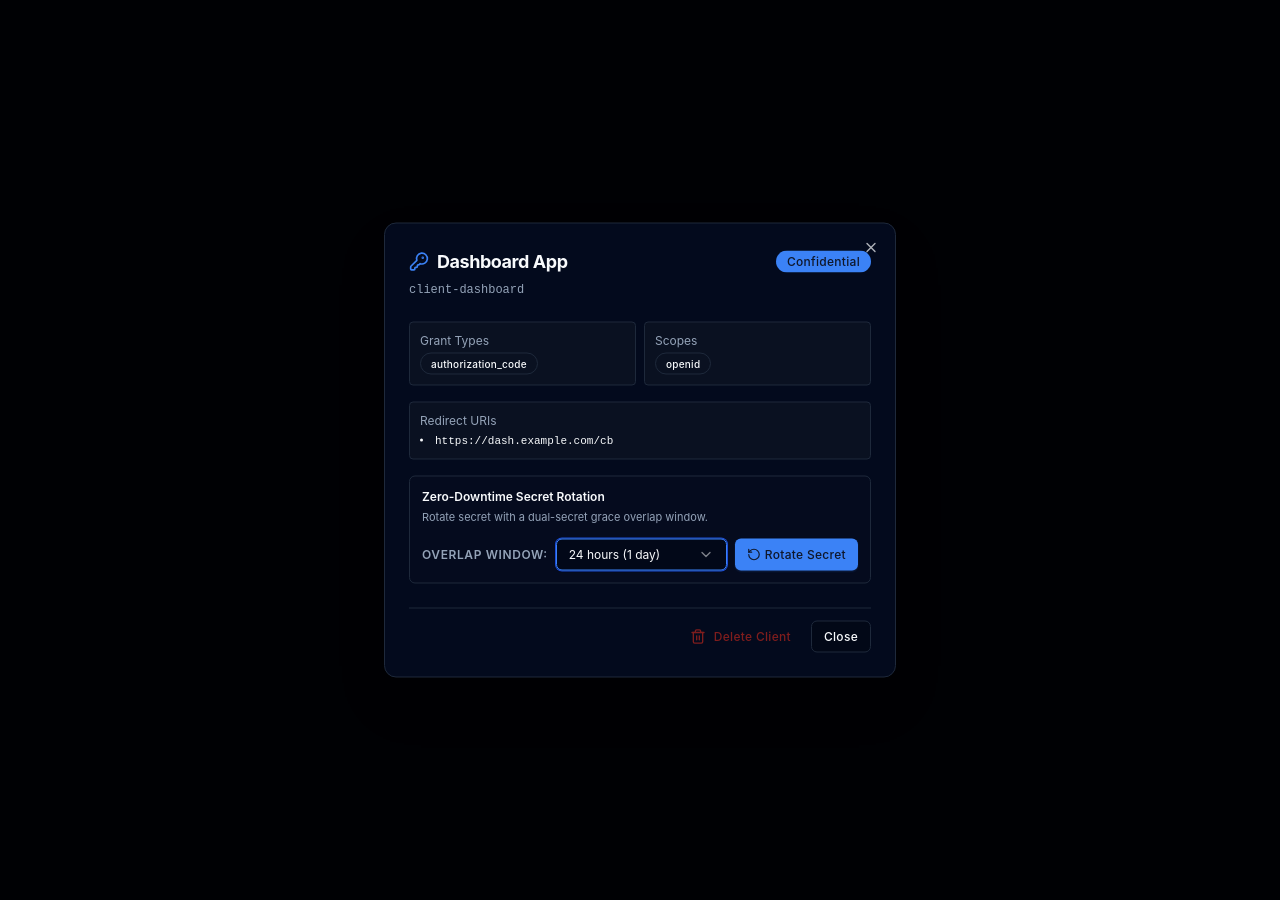
Test: OAuth2 UI Components › ClientDetailDialog › renders client details and allows secret rotation
Expected: the heading "Dashboard App" is shown, x1=409 y1=248 x2=568 y2=276
Expected: the heading "Zero-Downtime Secret Rotation" is shown, x1=422 y1=488 x2=605 y2=504
Click the button "Rotate Secret" at (796, 554), box x1=735 y1=538 x2=858 y2=570
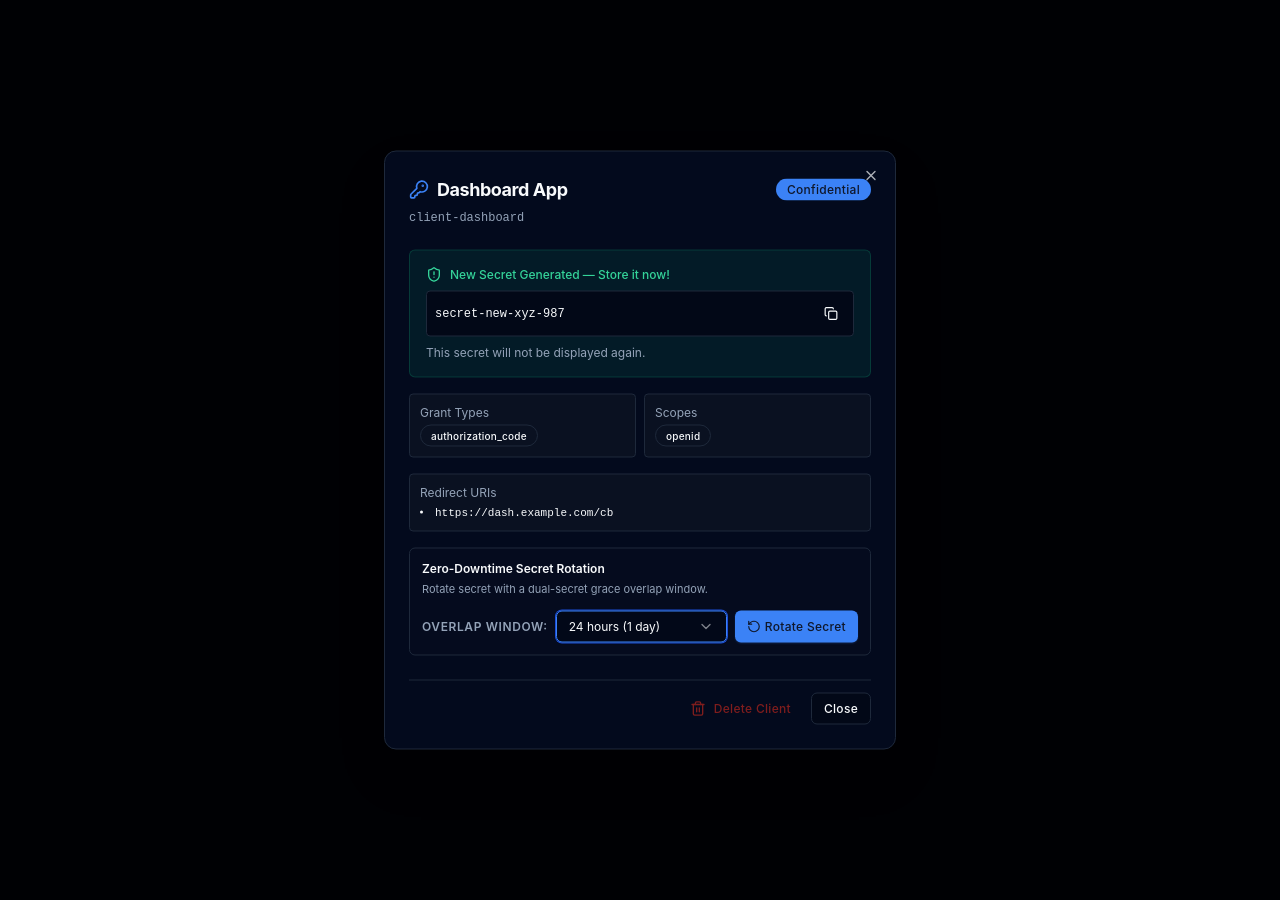
Now the text "New Secret Generated — Store it now!" is shown, box x1=426 y1=266 x2=670 y2=282
Now the text "secret-new-xyz-987" is shown, box x1=435 y1=306 x2=565 y2=320
